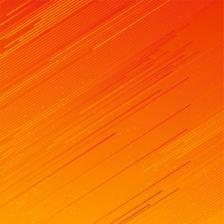orange: (1, 0, 223, 224)
